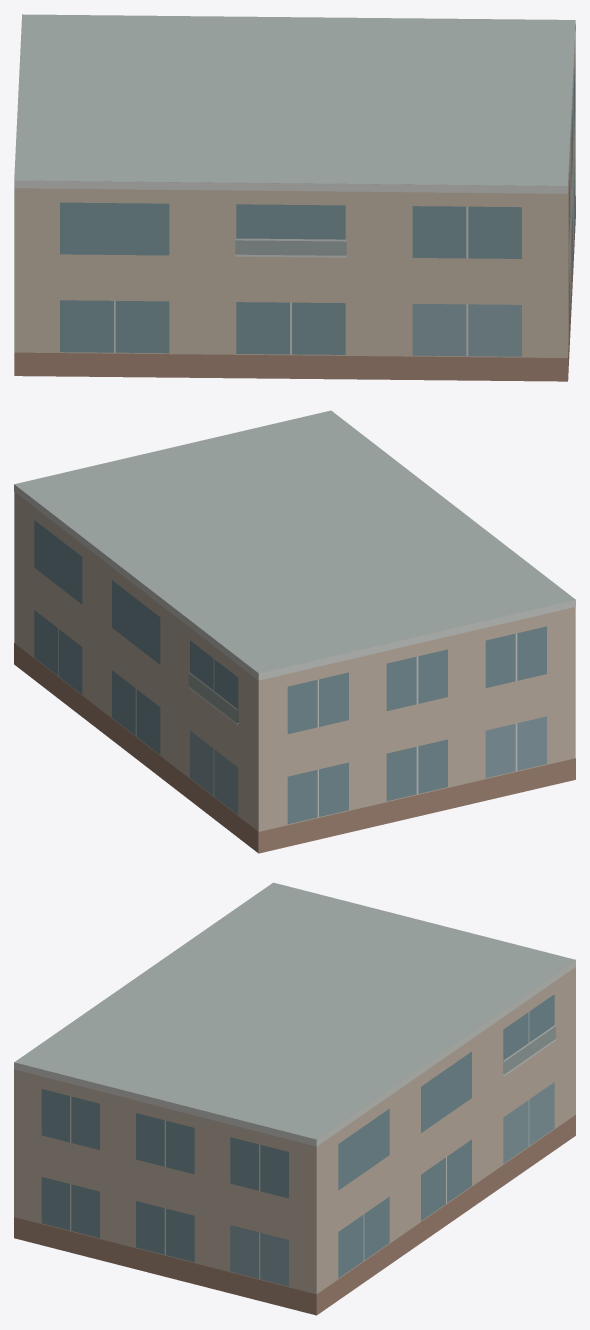
File: survey-upis-32830380.glb
The picture shows the model from 3 angles, top to bottom: view 1: azimuth 30°, elevation 25°; view 2: azimuth 150°, elevation 25°; view 3: azimuth 270°, elevation 25°; orthographic projection. The views are drawn at different scales.
Parts seen in each view (by area): view 1: survey-upis-32830380.tmp; view 2: survey-upis-32830380.tmp; view 3: survey-upis-32830380.tmp.
Part boxes in pixels (x1,y1,x2,y2): survey-upis-32830380.tmp: (14,14,575,381); survey-upis-32830380.tmp: (14,410,575,853); survey-upis-32830380.tmp: (14,882,575,1315).
Bounding box in the file's own units: 19.14 × 6.1 × 17.67.
